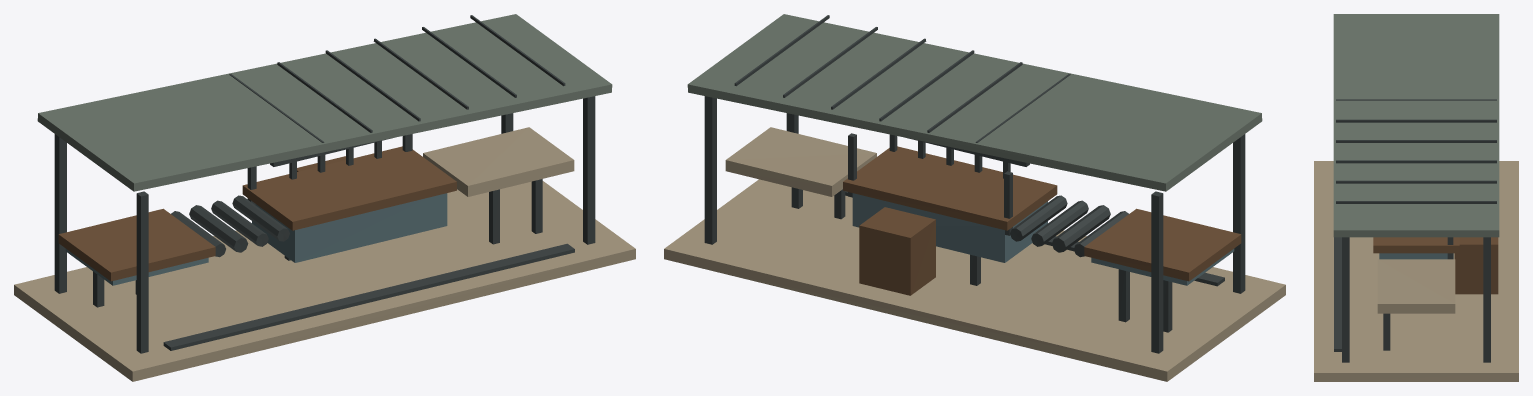
Rendered from Washing-Station.glb.
3 views of the same model, side by side, from view 1: azimuth 30°, elevation 25°; view 2: azimuth 150°, elevation 25°; view 3: azimuth 270°, elevation 25° (orthographic). The views are drawn at different scales.
Parts seen in each view (by area): view 1: washing-station-static-washing-station-pale-concrete-mat, washing-station-static-washing-station-sage-galvanized-mat, washing-station-static-washing-station-dark-frame-iron-mat, washing-station-static-washing-station-weathered-timber-mat, washing-station-static-washing-station-blue-grey-wash-mat; view 2: washing-station-static-washing-station-pale-concrete-mat, washing-station-static-washing-station-sage-galvanized-mat, washing-station-static-washing-station-weathered-timber-mat, washing-station-static-washing-station-dark-frame-iron-mat, washing-station-static-washing-station-blue-grey-wash-mat; view 3: washing-station-static-washing-station-sage-galvanized-mat, washing-station-static-washing-station-pale-concrete-mat, washing-station-static-washing-station-dark-frame-iron-mat, washing-station-static-washing-station-weathered-timber-mat, washing-station-static-washing-station-blue-grey-wash-mat.
Part boxes in pixels (<box>): washing-station-static-washing-station-pale-concrete-mat: <box>14,127,635,381</box>; washing-station-static-washing-station-sage-galvanized-mat: <box>37,14,612,191</box>; washing-station-static-washing-station-dark-frame-iron-mat: <box>54,15,595,353</box>; washing-station-static-washing-station-weathered-timber-mat: <box>58,146,456,281</box>; washing-station-static-washing-station-blue-grey-wash-mat: <box>65,193,447,285</box>; washing-station-static-washing-station-pale-concrete-mat: <box>664,127,1285,381</box>; washing-station-static-washing-station-sage-galvanized-mat: <box>687,14,1262,191</box>; washing-station-static-washing-station-weathered-timber-mat: <box>843,146,1241,295</box>; washing-station-static-washing-station-dark-frame-iron-mat: <box>704,15,1245,353</box>; washing-station-static-washing-station-blue-grey-wash-mat: <box>852,193,1234,285</box>; washing-station-static-washing-station-sage-galvanized-mat: <box>1333,14,1499,237</box>; washing-station-static-washing-station-pale-concrete-mat: <box>1314,161,1518,381</box>; washing-station-static-washing-station-dark-frame-iron-mat: <box>1334,99,1496,362</box>; washing-station-static-washing-station-weathered-timber-mat: <box>1373,237,1498,294</box>; washing-station-static-washing-station-blue-grey-wash-mat: <box>1379,253,1453,259</box>.
Bounding box in the file's own units: 7.1 × 2.52 × 2.9.
